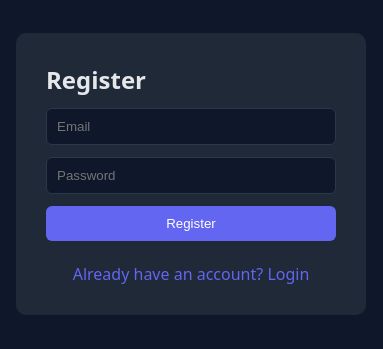
Test: Register Component › Form Validation › should show error when email is empty
This screenshot has width=383, height=349.
In the password field with placeholder "Password": (191, 176) [46, 157, 336, 194], type "password123"
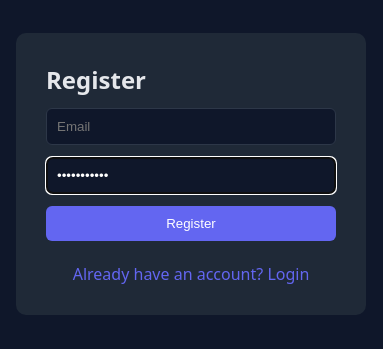
Click the button "Register": (191, 224) [46, 206, 336, 241]
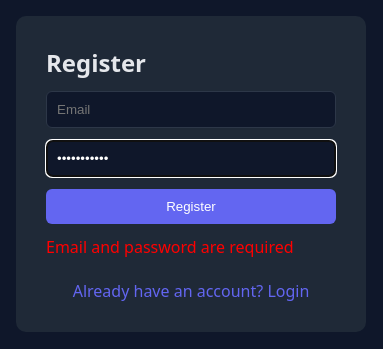
Check: the text "Email and password are required" is shown, box [46, 236, 336, 258]
